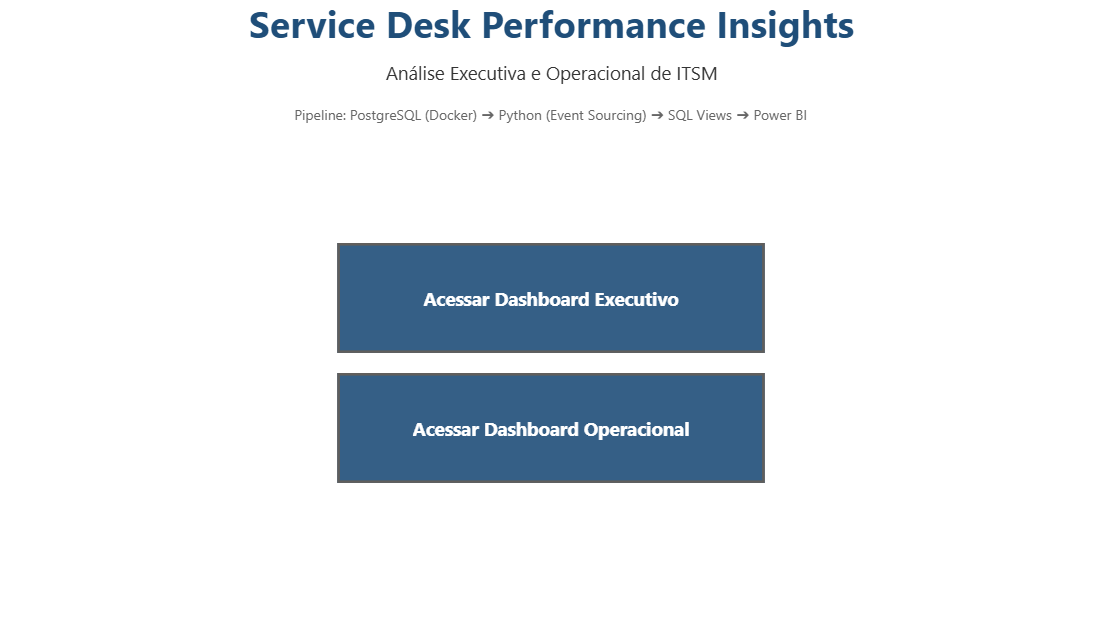

This screenshot's page, from the dashboard's own definition file:
{"tool":"powerbi","page":{"name":"Capa","canvas":[1280,720],"ordinal":0},"visuals":[{"type":"textbox","box":[285,0,710,88.3],"z":0},{"type":"textbox","box":[285,71.7,710,71.7],"z":1},{"type":"textbox","box":[273.3,123.3,733.3,38.3],"z":2},{"type":"actionButton","box":[395.7,285.7,488.6,125.7],"z":3},{"type":"actionButton","box":[395.7,434.3,488.6,125.7],"z":4}]}

Visuals, with their boxes in screenshot pixels (x1, y1, x2, y2), scaled from the page's 1280x720 canvas onto the 1107x620 screenshot:
textbox: 246:0:861:76
textbox: 246:62:861:123
textbox: 236:106:871:139
actionButton: 342:246:765:354
actionButton: 342:374:765:482
